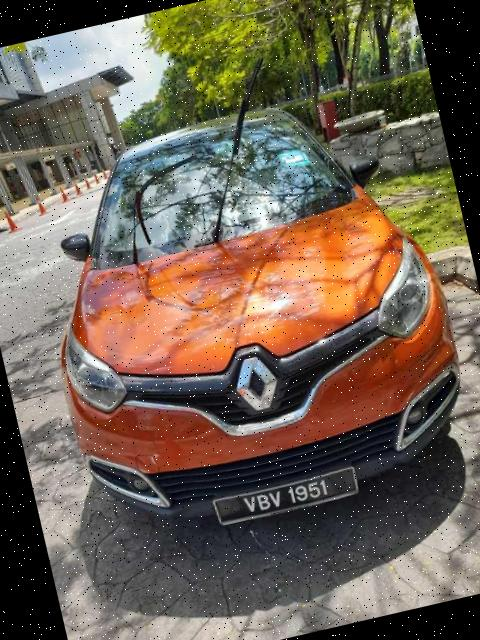License_Plate: (211, 466, 362, 530)
car: (10, 74, 480, 557)
